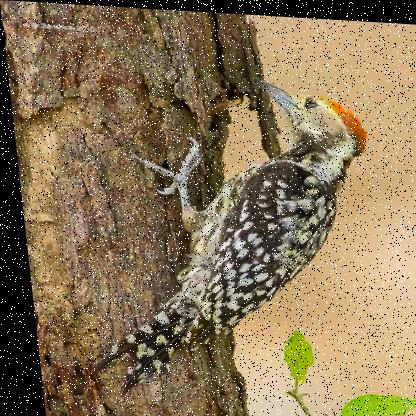Burung: (46, 64, 387, 407)
